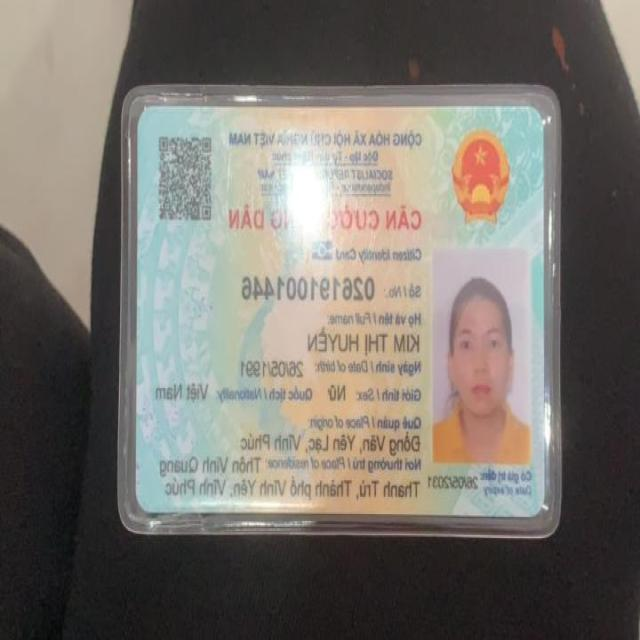bottom_left: (514, 486, 556, 530)
bottom_right: (124, 482, 164, 526)
image_person: (430, 250, 534, 460)
top_left: (516, 94, 558, 138)
top_right: (130, 96, 166, 134)
